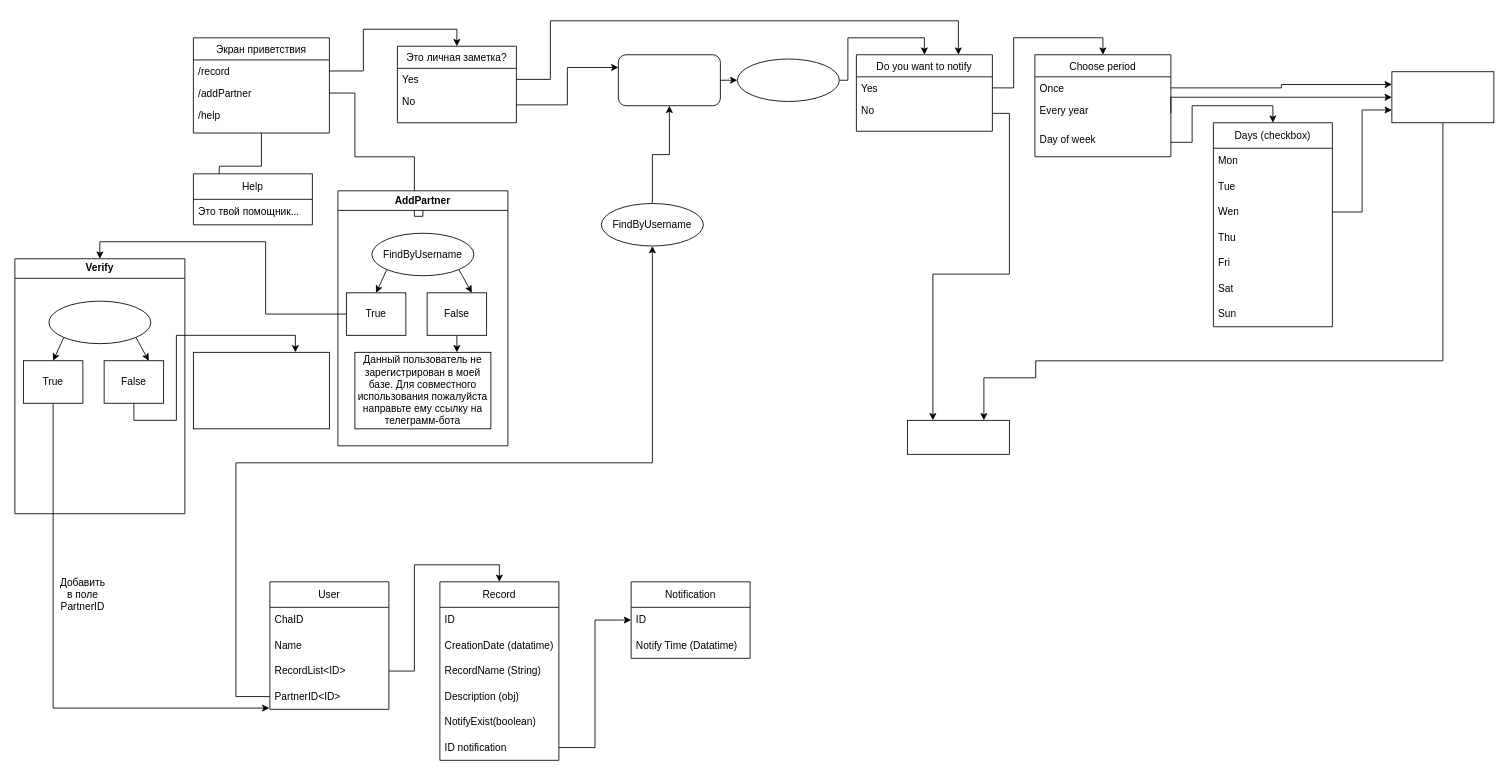
Image size: 1509x775. Some labels were removed from this diagram. The shapes that lost their labels are listed below. From the top down, each one's centre as x and y in pixels, then its label:
(x=669, y=80): Input partner's Nickname (User Name)
(x=788, y=79): GetPartnerID List
(x=1442, y=97): Time
(x=99, y=322): SendRequest
(x=261, y=390): Пользователь не принял Ваше приглажение
(x=958, y=436): Create new record
